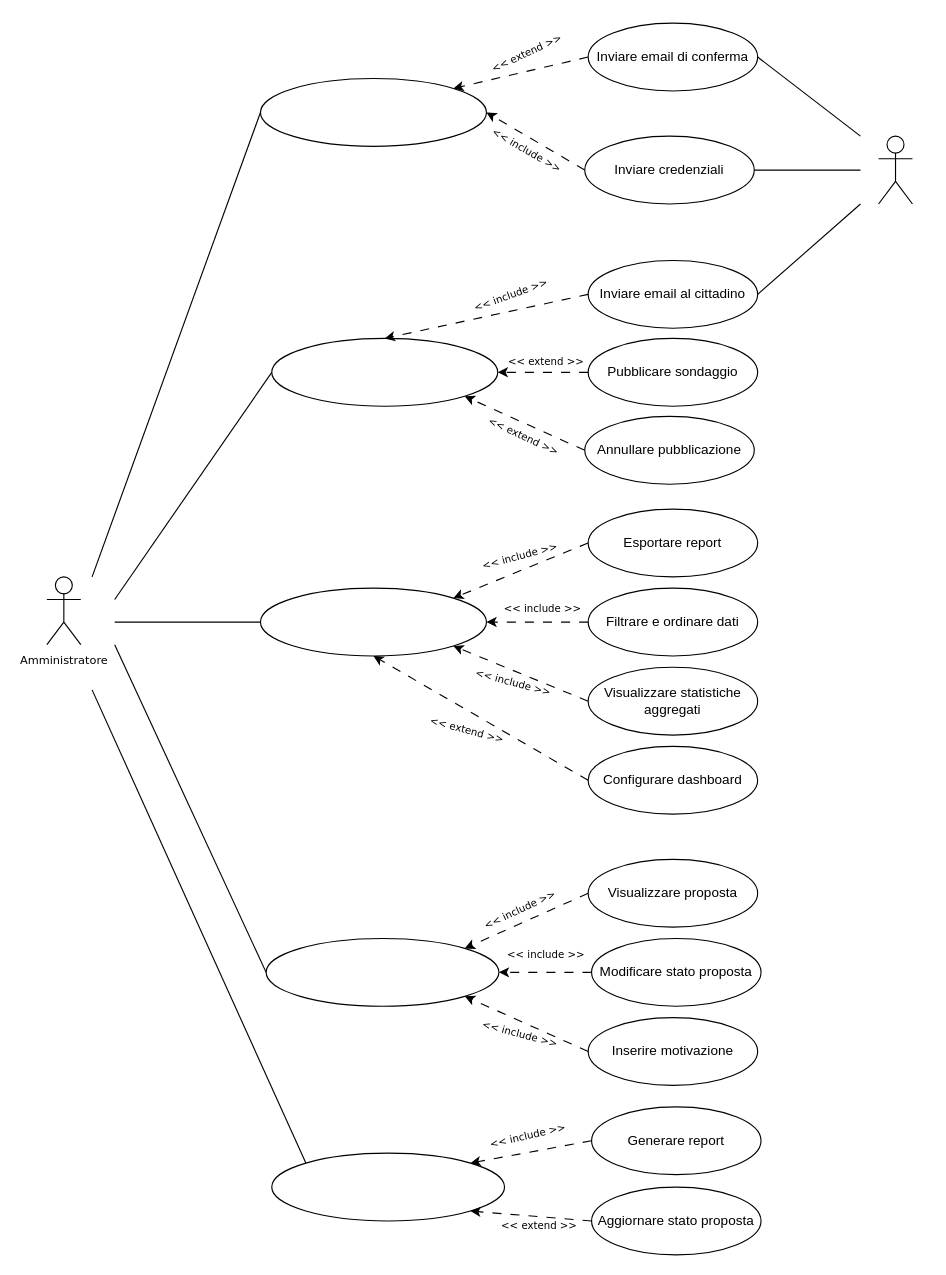
Some shapes in this 946 by 1275 pixel diagram are drawn without their labels. Each missing label, with the box of its shape:
Creare account moderatore o associazione/comitato: (259, 77, 486, 146)
Creare sondaggi: (271, 337, 498, 406)
Interazione con dashboard: (259, 587, 486, 656)
mail server: (877, 135, 912, 204)
Pubblicare e aggiornare un report amministrativo: (271, 1152, 505, 1221)
Valutare e approvare/rifiutare una proposta: (265, 937, 499, 1006)
